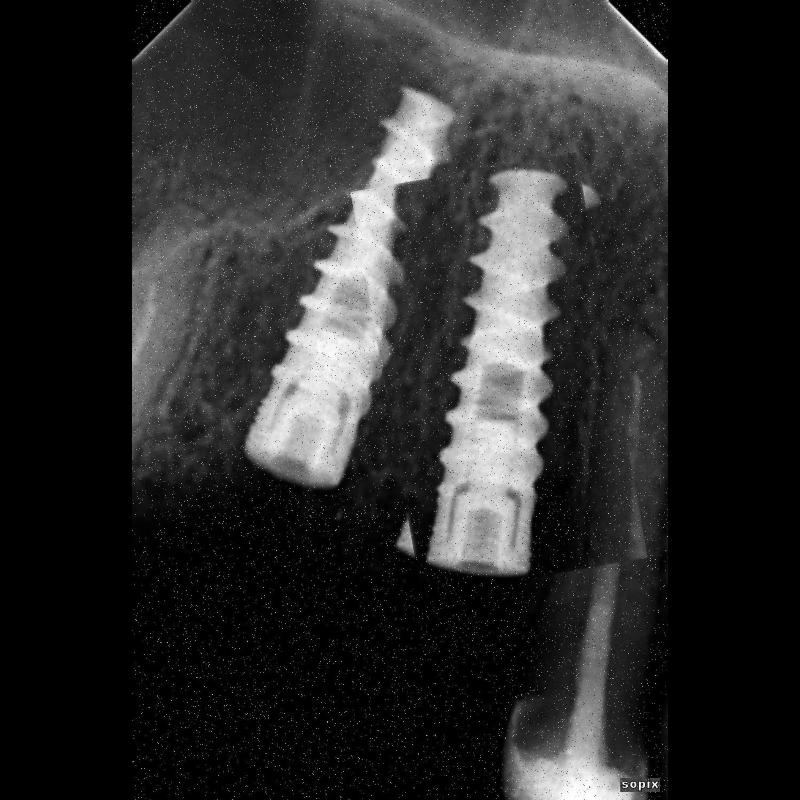NORIS: (368, 161, 632, 589)
